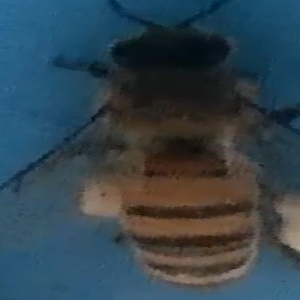bee: (40, 4, 300, 295)
